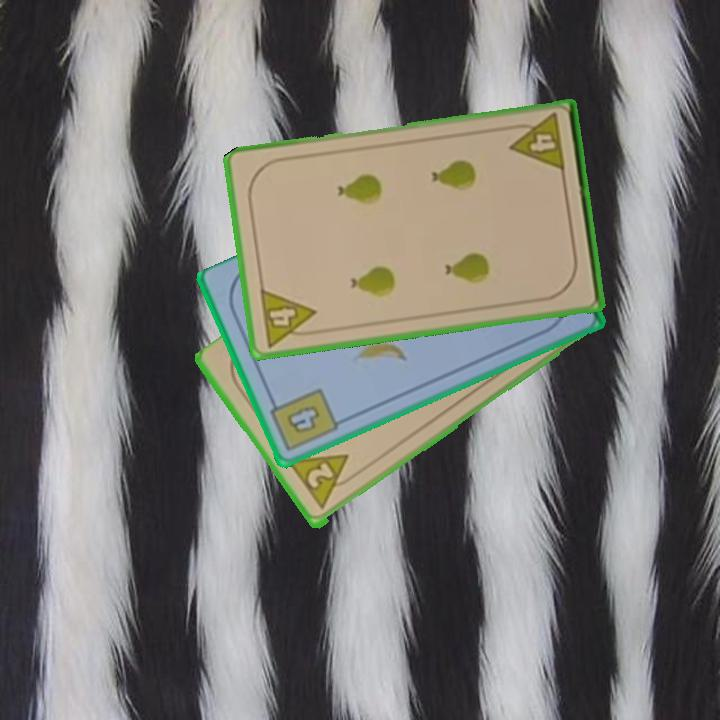2p: (285, 450, 362, 515)
4b: (265, 385, 341, 455)
4p: (256, 285, 321, 350), (505, 110, 568, 175)
